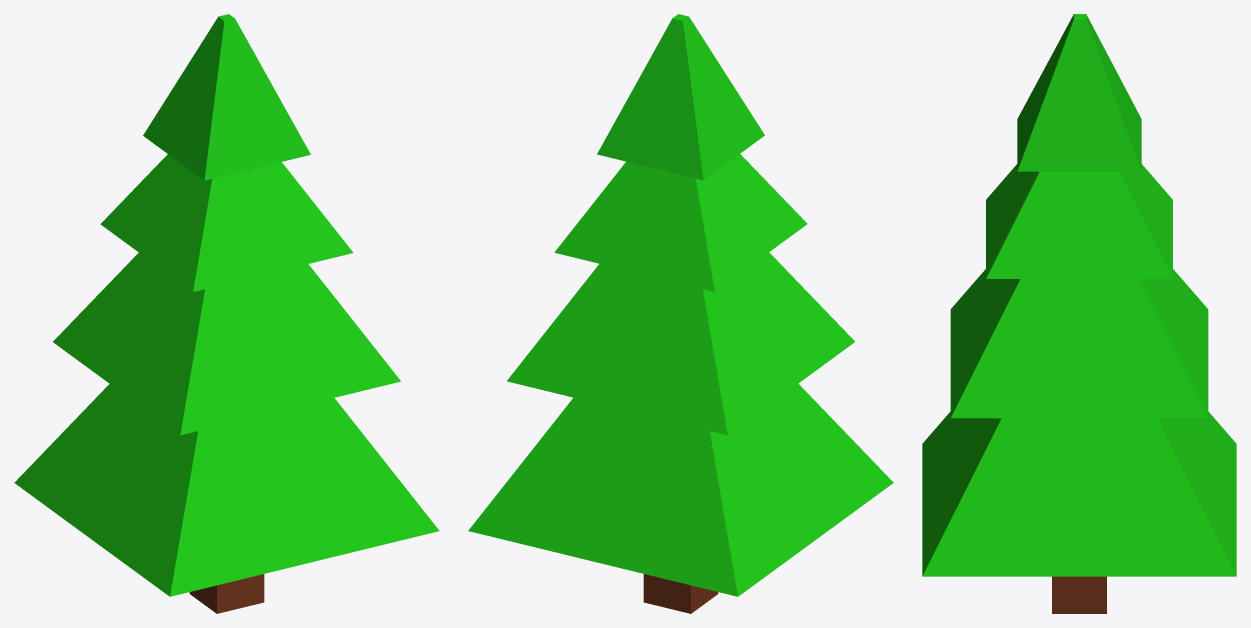
Rendered from Elka.fbx.
3 renders of one model, left to right at view 1: azimuth 30°, elevation 25°; view 2: azimuth 150°, elevation 25°; view 3: azimuth 270°, elevation 25°, orthographic.
Visible parts, largest first — view 1: Cube; view 2: Cube; view 3: Cube.
Part boxes in pixels (x1,y1,x2,y2): Cube: (14,14,439,613); Cube: (468,14,893,613); Cube: (922,14,1236,613).
Bounding box in the file's own units: 385 × 792 × 385.
